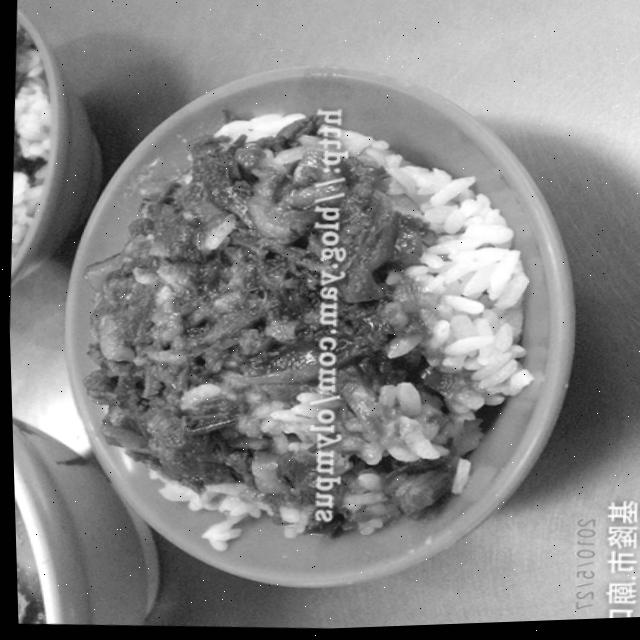猪肉菜式: (38, 72, 585, 578)
